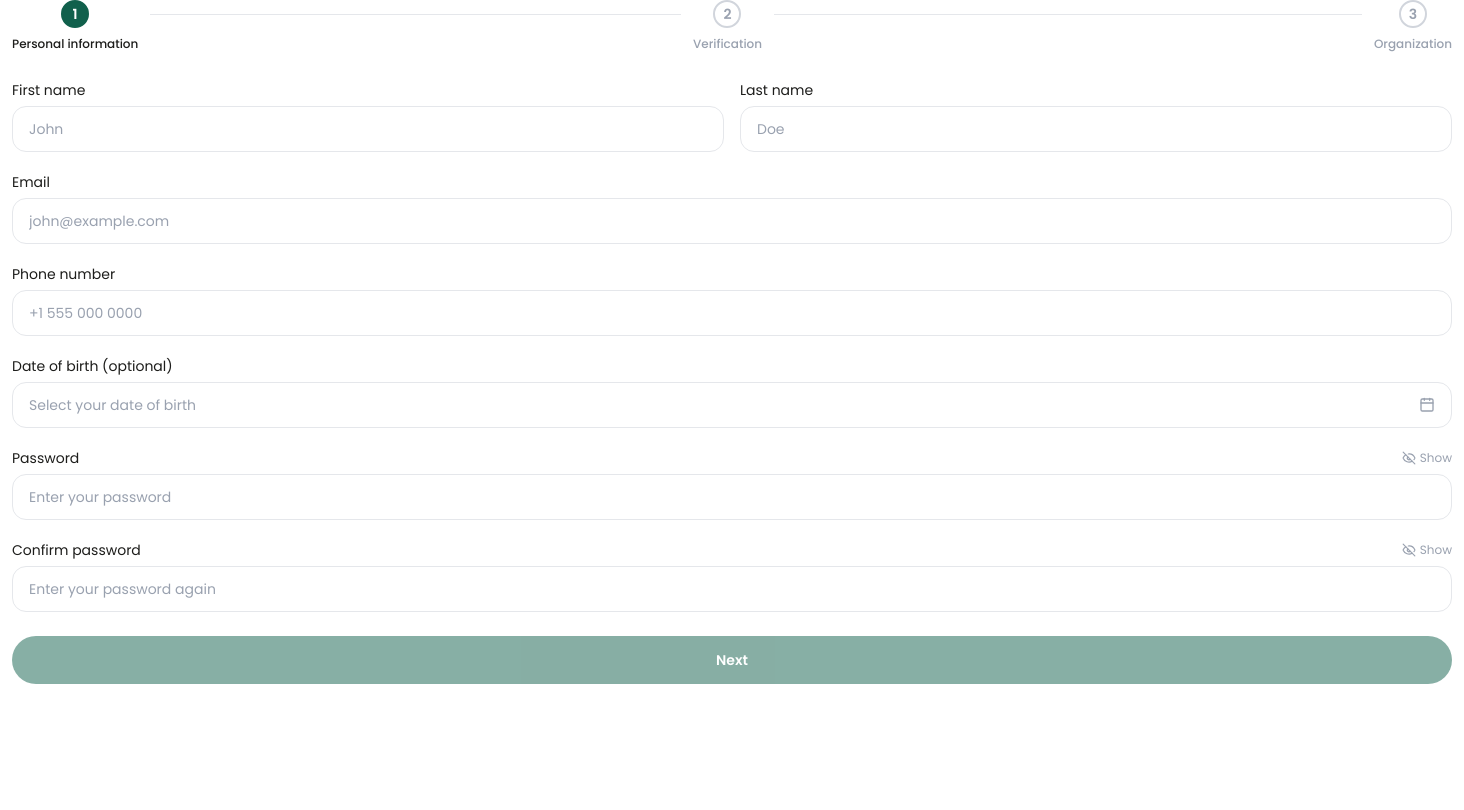
Test case: SignUpForm › shows a generic server error on a non-409 failure
The width and height of the screenshot is (1464, 810).
Type "Sara" into the field with id "firstName" at x=368, y=129, box 12,106 -> 724,152
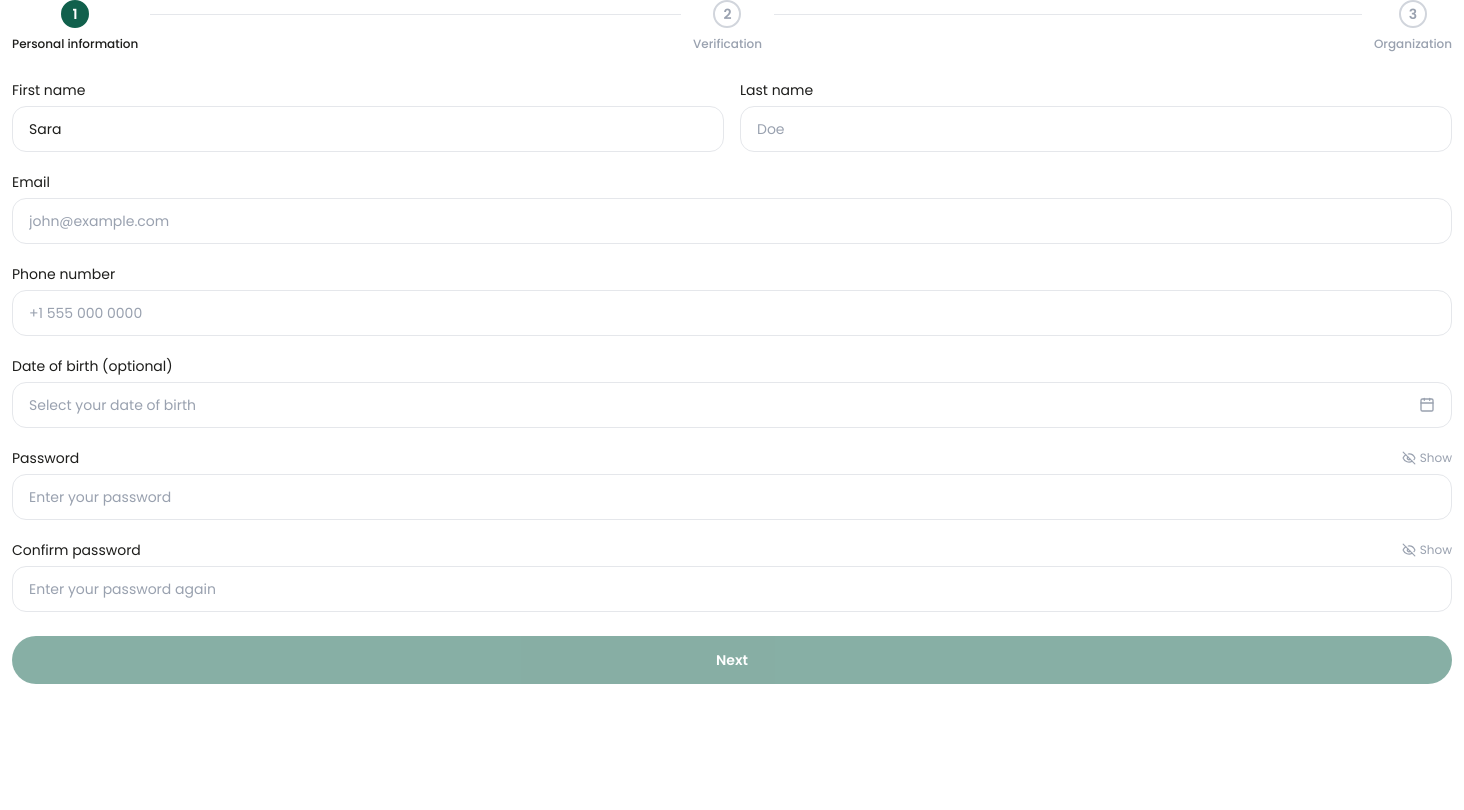
Type "Ali" into the field with id "lastName" at x=1096, y=129, box 740,106 -> 1452,152
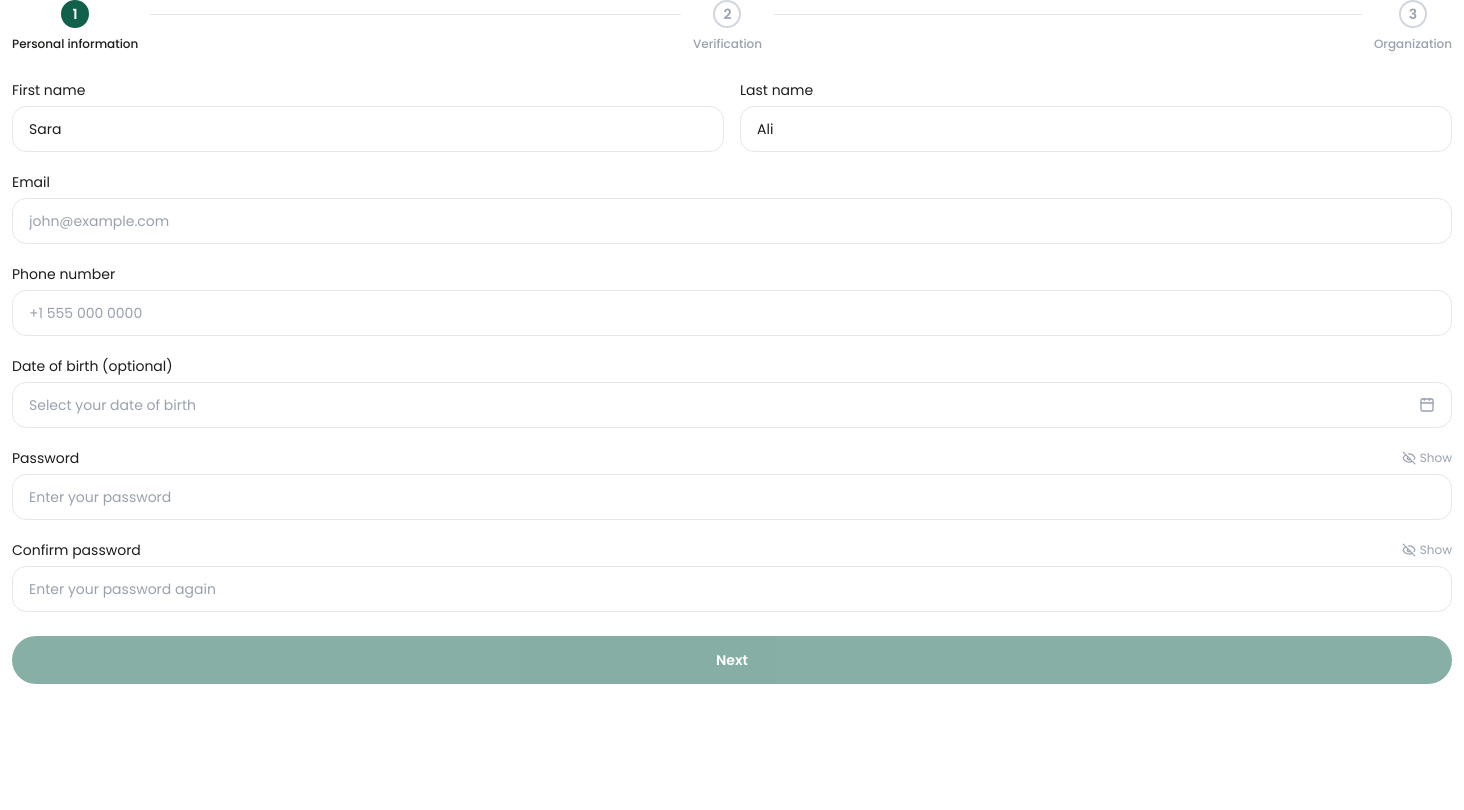
Type "sara@example.com" into the field with id "email" at x=732, y=221, box 12,198 -> 1452,244
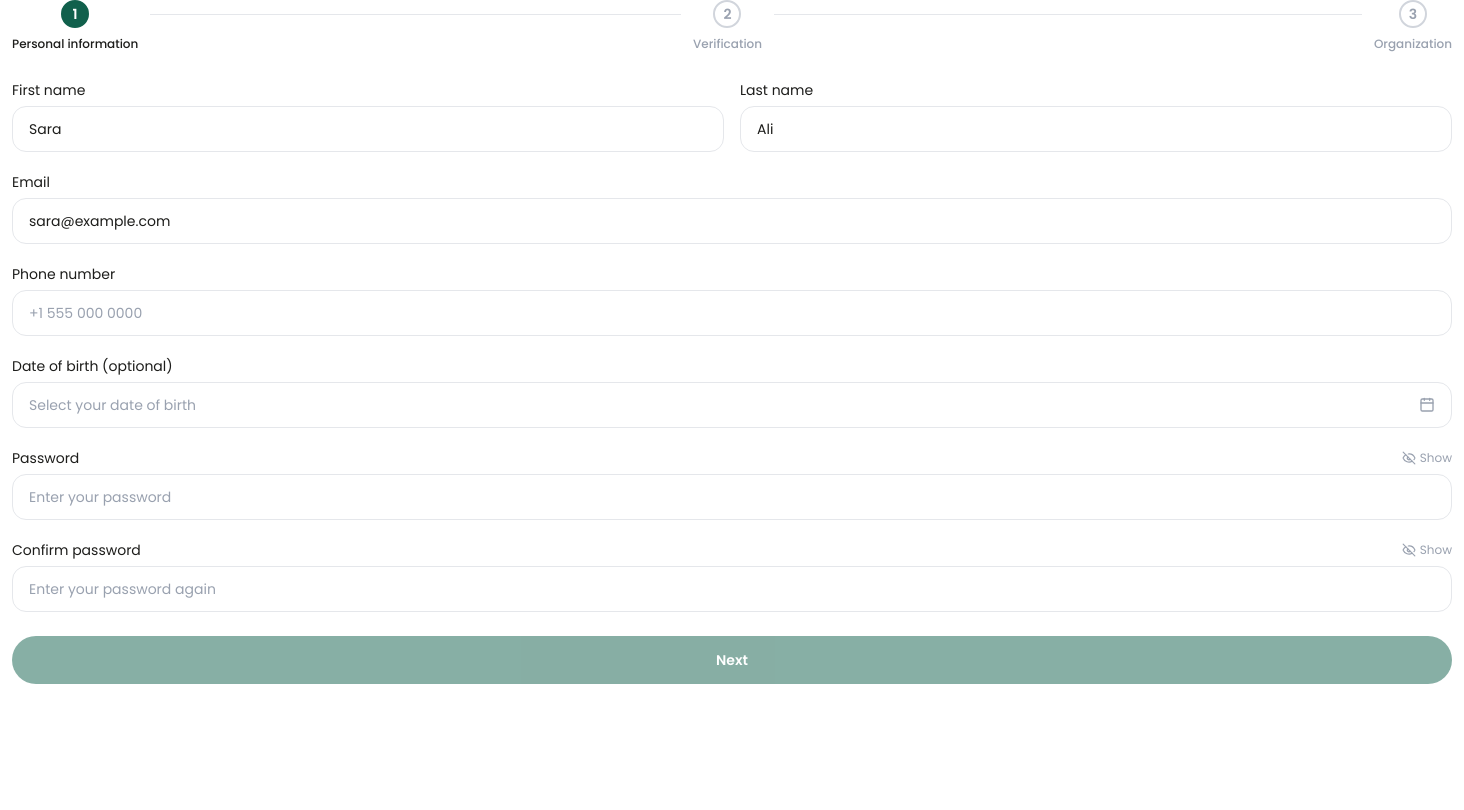
Type "Password1!" into the password field labelled "Password" at x=732, y=497, box 12,474 -> 1452,520
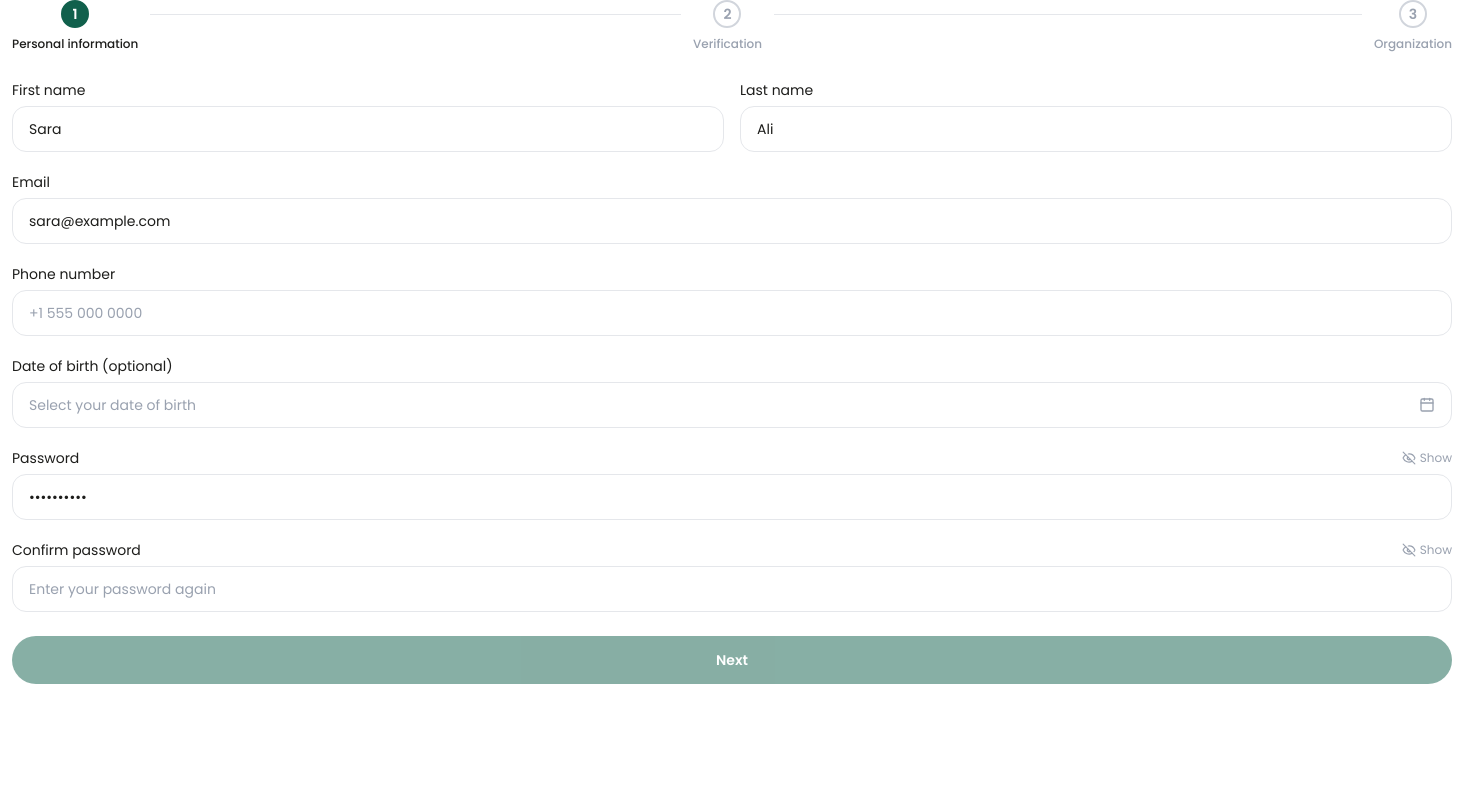
Type "Password1!" into the password field with id "confirmPassword" at x=732, y=589, box 12,566 -> 1452,612
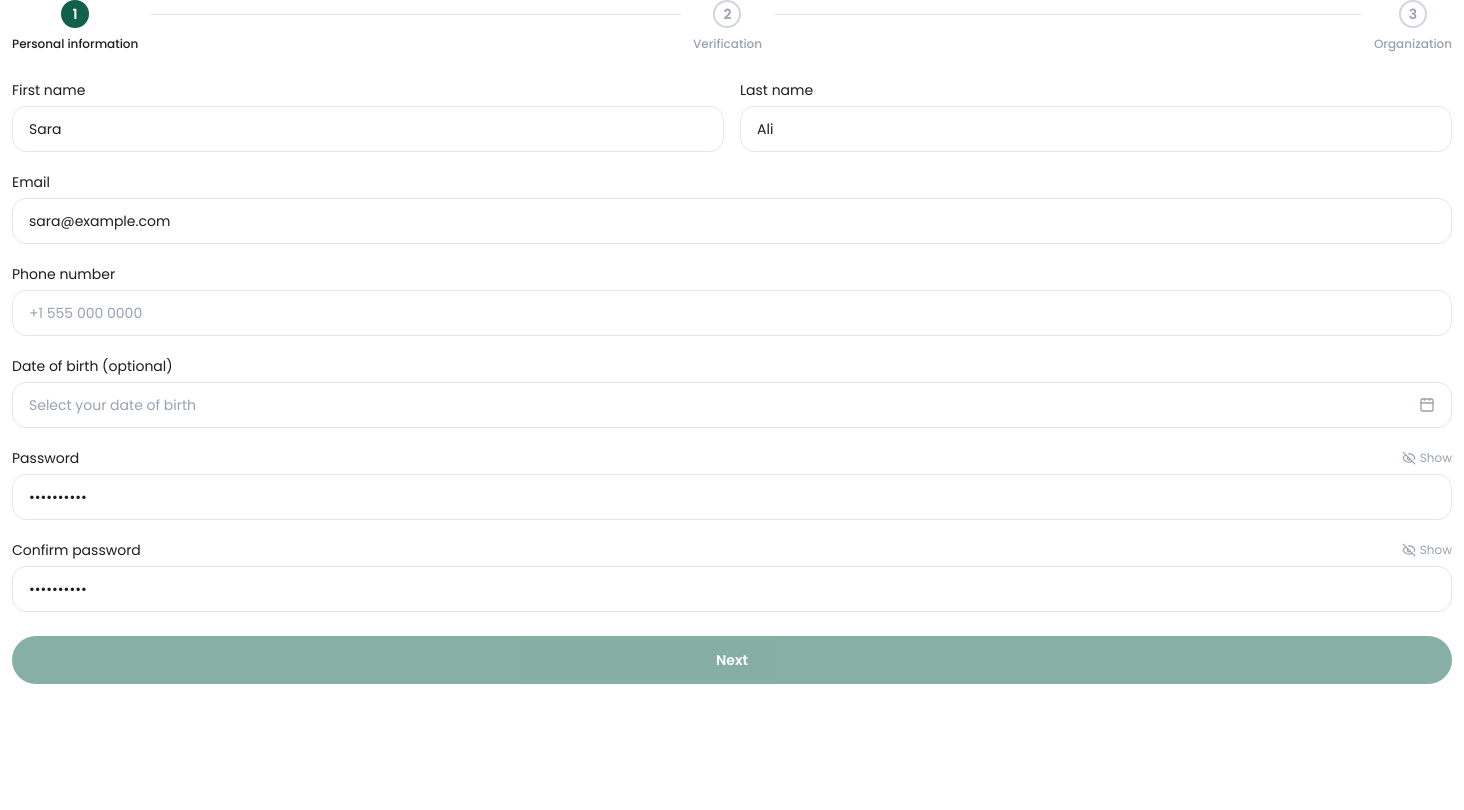
Submit the form with id "firstName"
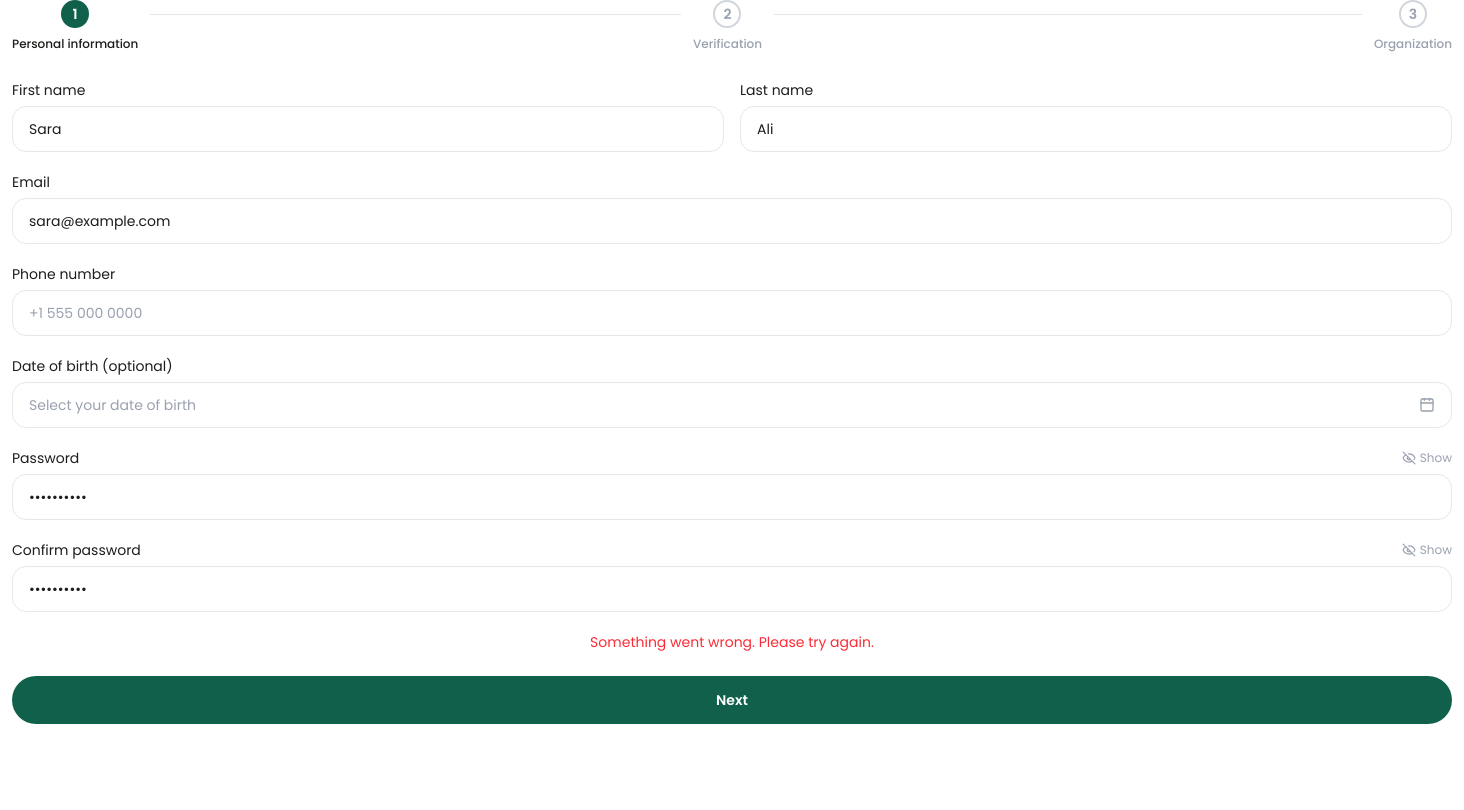
Check: the text "Something went wrong. Please try again." is shown, box 590,632 -> 874,652
